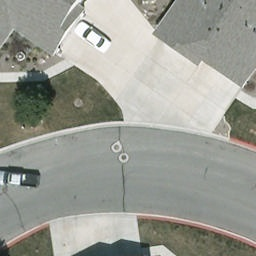car: (73, 20, 113, 52)
pickup: (0, 169, 40, 190)
